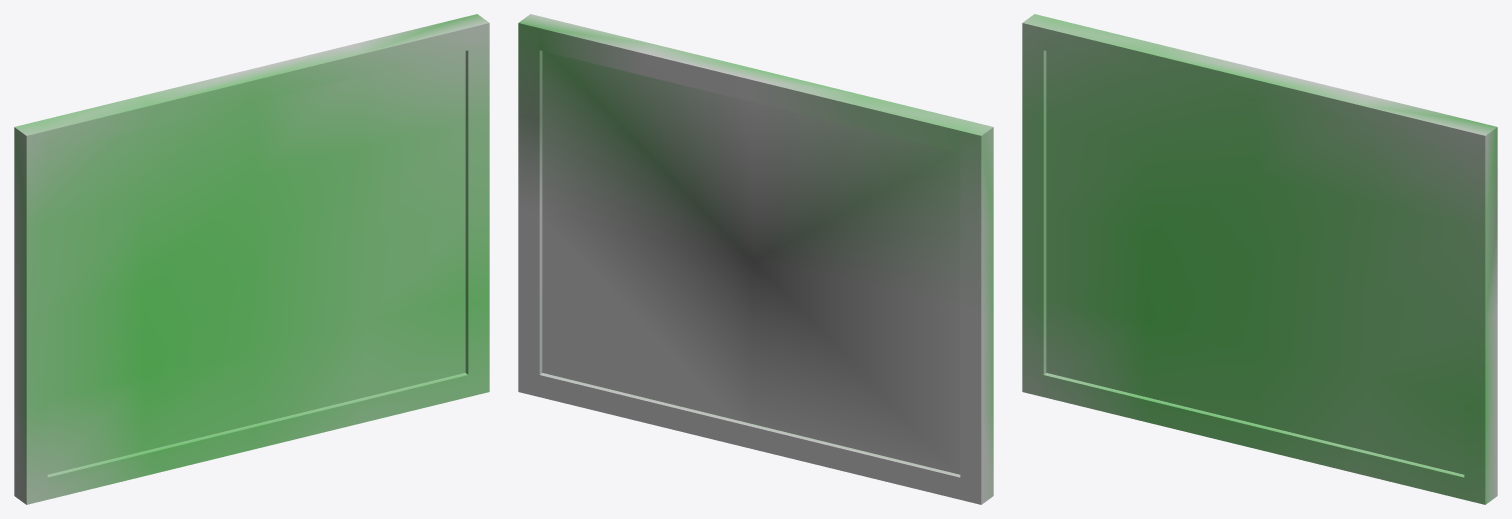
File: Board_2.fbx
3 views of the same model, side by side, from view 1: azimuth 30°, elevation 25°; view 2: azimuth 150°, elevation 25°; view 3: azimuth 330°, elevation 25° (orthographic).
Visible parts, largest first — view 1: Board_2; view 2: Board_2; view 3: Board_2.
Part boxes in pixels (x1,y1,x2,y2): Board_2: (14, 14, 489, 504); Board_2: (518, 14, 993, 504); Board_2: (1022, 14, 1497, 504).
Bounding box in the file's own units: 2.1 × 1.6 × 0.096.
